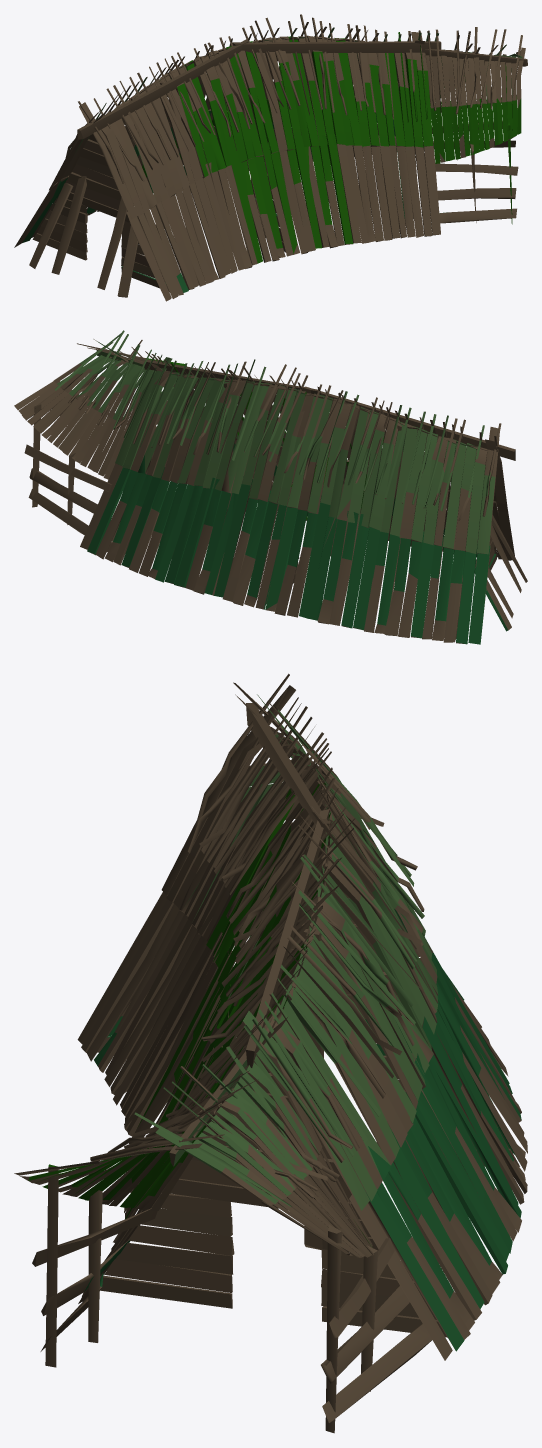
File: vikingbarracks.fbx
3 views of the same model, one above another, from view 1: azimuth 30°, elevation 25°; view 2: azimuth 150°, elevation 25°; view 3: azimuth 270°, elevation 25° (orthographic). The views are drawn at different scales.
Parts seen in each view (by area): view 1: Cube.002_Cube.004; view 2: Cube.002_Cube.004; view 3: Cube.002_Cube.004.
Part boxes in pixels (<box>): Cube.002_Cube.004: <box>14,14,527,301</box>; Cube.002_Cube.004: <box>14,330,527,644</box>; Cube.002_Cube.004: <box>14,673,527,1433</box>.
Bounding box in the file's own units: 2877 × 1089 × 1331.
